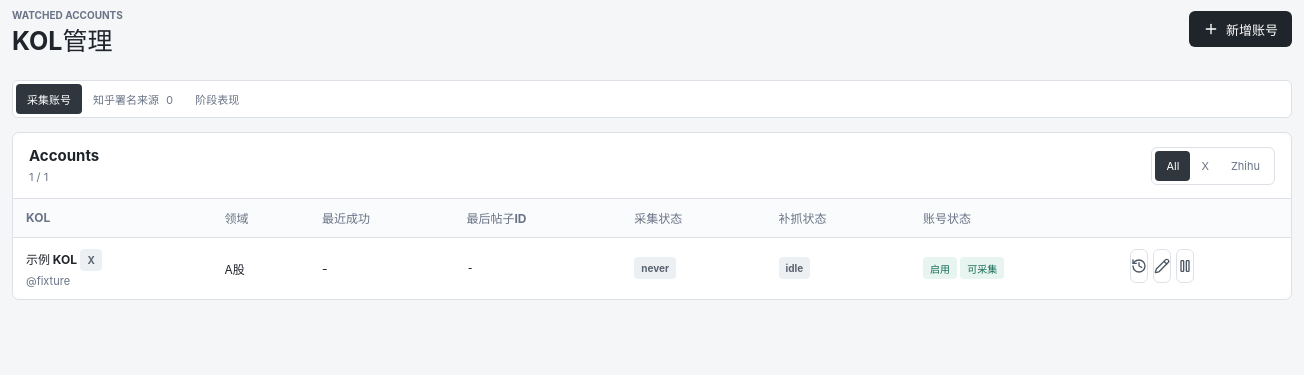
Test: KOL management performance loading › defers leaderboard loading until the performance view is selected
Expected: the heading "KOL管理" is shown, [12, 26, 123, 56]
Click the button "阶段表现" at (217, 99), box [184, 84, 250, 114]
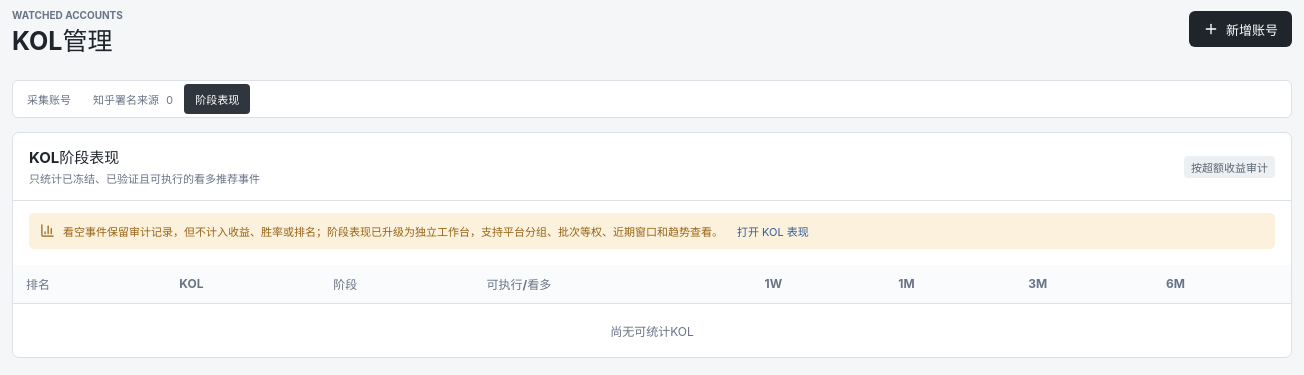
Expected: the heading "KOL阶段表现" is shown, [29, 148, 119, 167]
